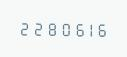eight: (43, 19, 55, 36)
one: (82, 20, 94, 37)
six: (69, 20, 81, 37), (95, 20, 107, 37)
two: (17, 19, 29, 36), (30, 19, 42, 36)
zero: (56, 19, 68, 37)
